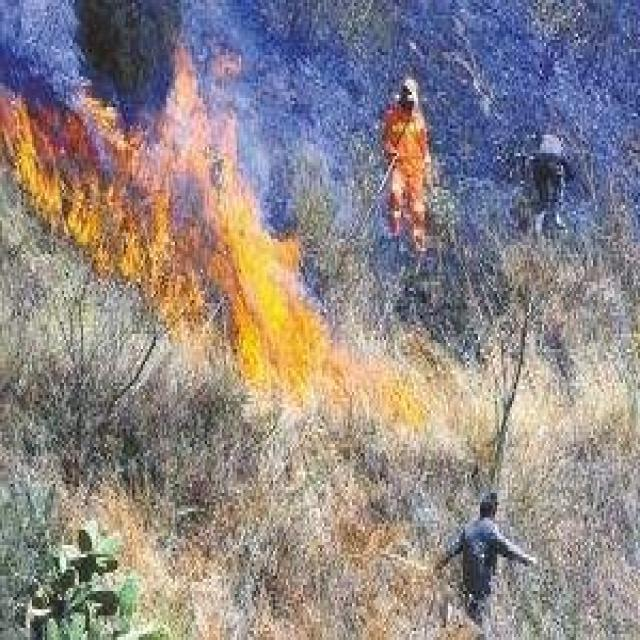fire: (0, 47, 438, 431)
